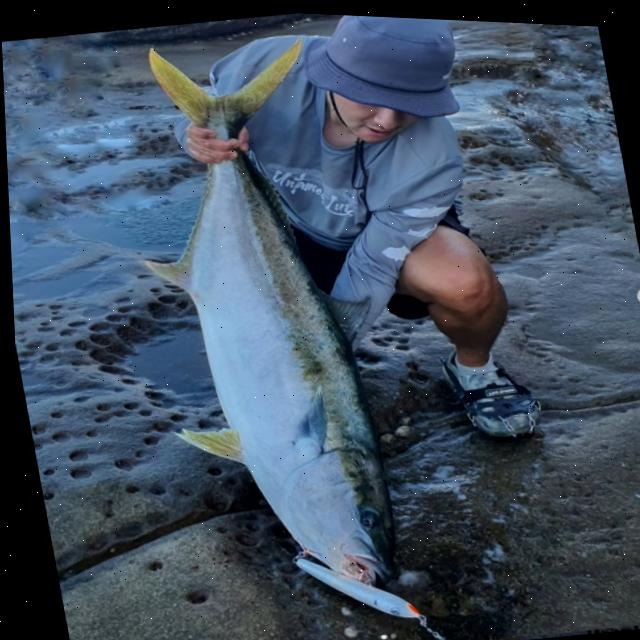Kingfish: (100, 20, 414, 615)
